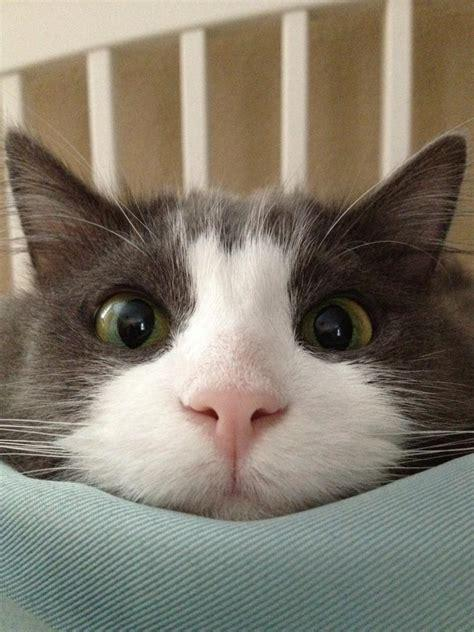cat: (1, 127, 474, 521)
